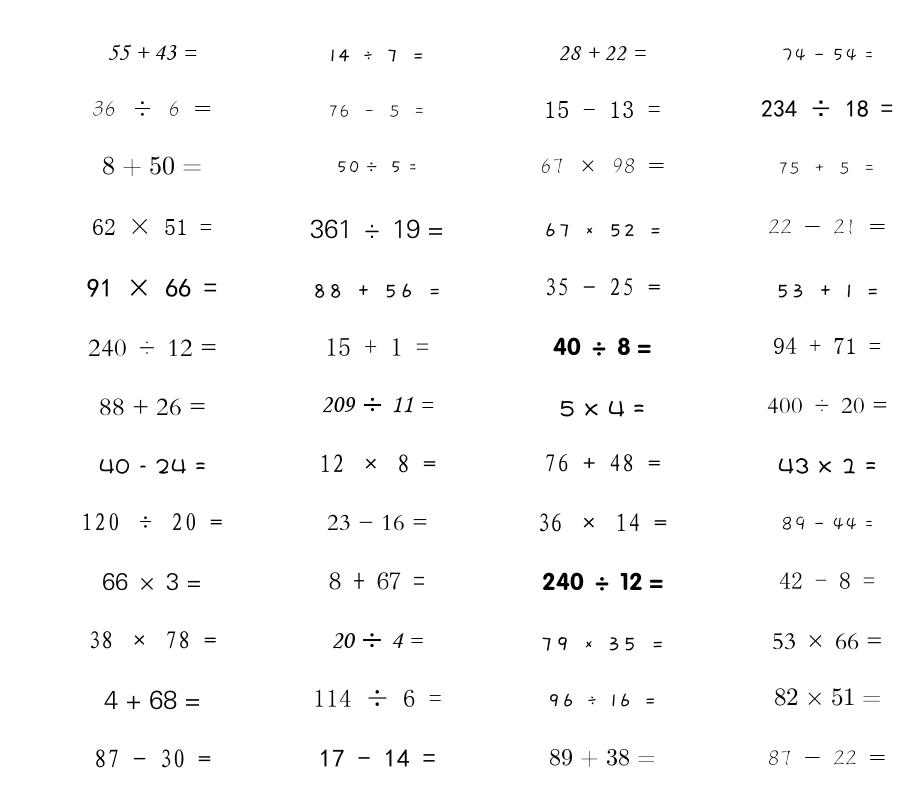MQ: (310, 219, 444, 239), (81, 513, 223, 531), (87, 278, 217, 297), (537, 513, 667, 532), (88, 339, 217, 357), (88, 631, 217, 649), (313, 689, 442, 707), (542, 572, 663, 591), (761, 100, 893, 117), (319, 454, 436, 473), (94, 749, 211, 768), (544, 278, 661, 296), (544, 454, 661, 472), (319, 749, 436, 767), (102, 156, 202, 177), (767, 397, 888, 414), (92, 218, 212, 235), (549, 748, 656, 767), (540, 158, 665, 174), (544, 101, 661, 118), (325, 337, 429, 356), (312, 283, 442, 298), (104, 690, 201, 710), (99, 398, 206, 416), (774, 688, 881, 706), (321, 396, 434, 413), (92, 100, 212, 116), (102, 572, 202, 591), (768, 219, 886, 235), (768, 750, 886, 766), (772, 633, 883, 650), (553, 337, 651, 356), (773, 337, 881, 354), (540, 637, 665, 651), (329, 572, 425, 590), (327, 514, 428, 531), (99, 458, 206, 474), (543, 223, 662, 237), (779, 572, 875, 589), (778, 458, 877, 474), (331, 632, 423, 649), (547, 693, 657, 707), (775, 284, 880, 298), (559, 400, 645, 417), (107, 44, 197, 60), (781, 516, 874, 531), (328, 104, 426, 118), (558, 46, 646, 61), (781, 48, 874, 62), (778, 162, 876, 175), (329, 49, 425, 62), (336, 160, 418, 174)
